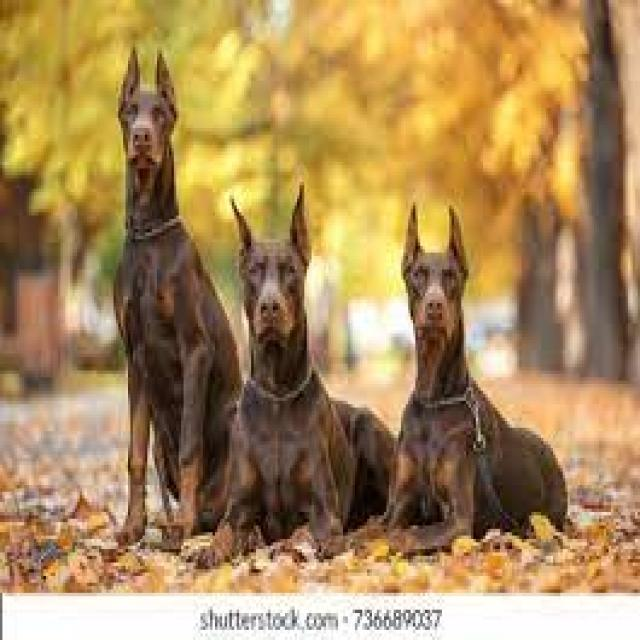Dog: (388, 200, 570, 566), (84, 42, 234, 302), (217, 174, 326, 430)
